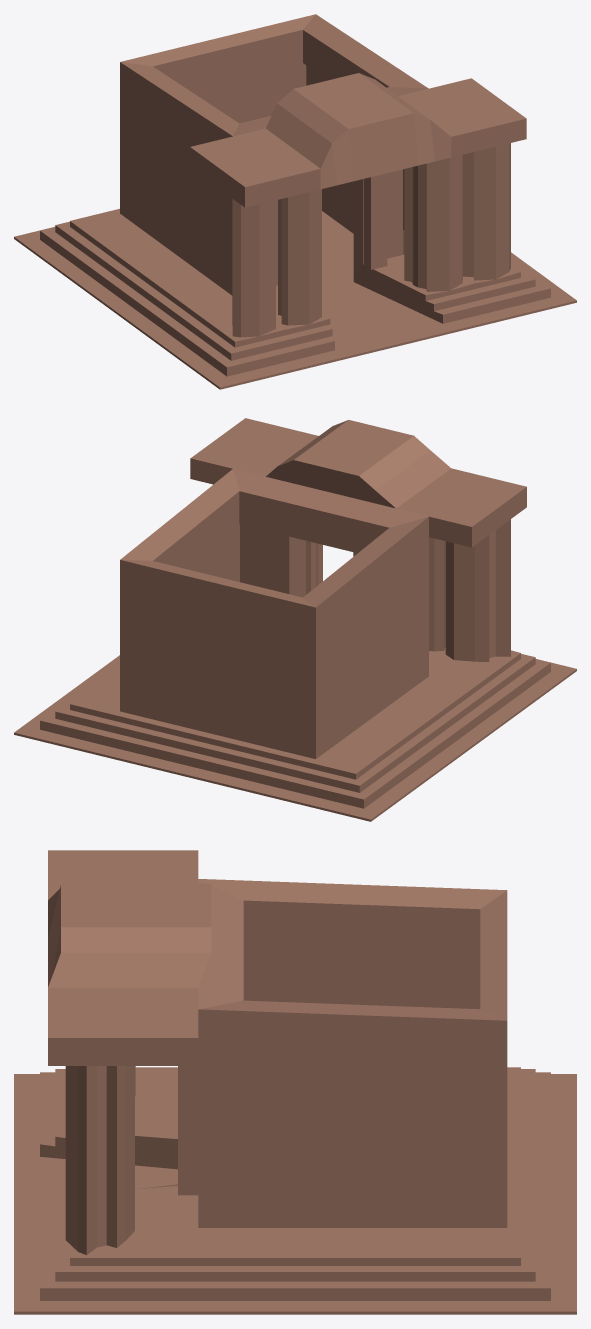
Rendered from Museum.fbx.
3 views of the same model, one above another, from view 1: azimuth 30°, elevation 25°; view 2: azimuth 150°, elevation 25°; view 3: azimuth 270°, elevation 25° (orthographic). The views are drawn at different scales.
Visible parts, largest first — view 1: Cube; view 2: Cube; view 3: Cube.
Boxes of the visible parts, x1,y1,x2,y2 form: Cube: [14, 14, 576, 389]; Cube: [14, 418, 576, 821]; Cube: [14, 850, 576, 1314].
Bounding box in the file's own units: 980 × 558 × 980.
